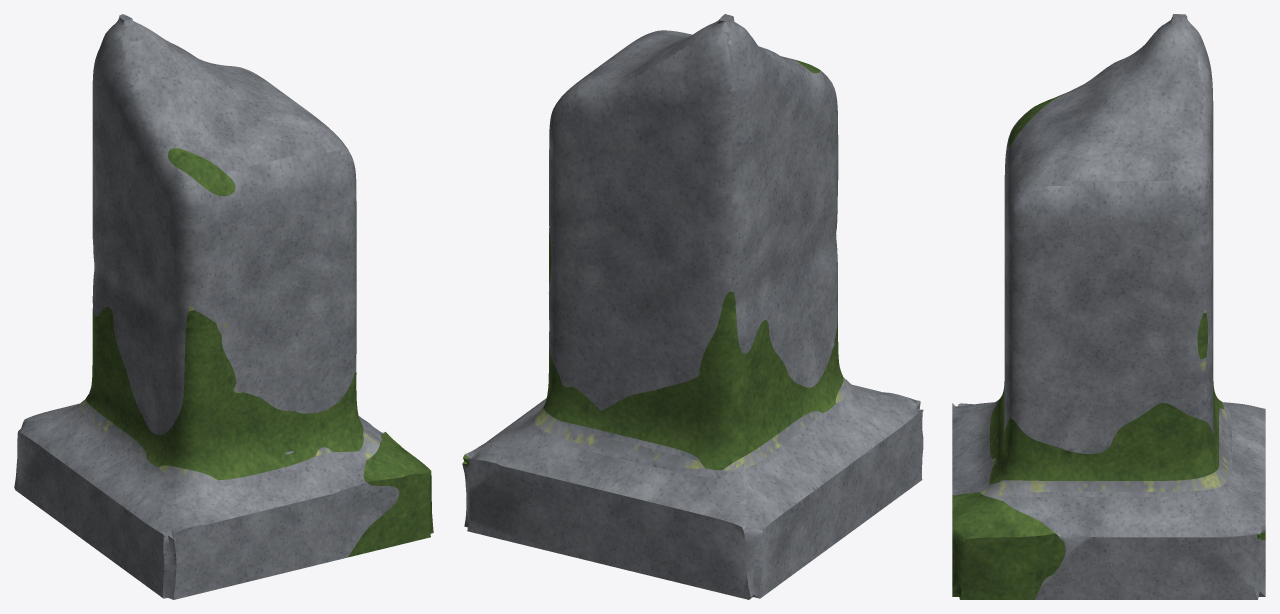
Rendered from ruin_pillar_broken.glb.
The picture shows the model from 3 angles, left to right: view 1: azimuth 30°, elevation 25°; view 2: azimuth 150°, elevation 25°; view 3: azimuth 270°, elevation 25°; orthographic projection. The views are drawn at different scales.
Visible parts, largest first — view 1: wilds_ruins_ruin_pillar_broken; view 2: wilds_ruins_ruin_pillar_broken; view 3: wilds_ruins_ruin_pillar_broken.
Boxes of the visible parts, x1,y1,x2,y2 form: wilds_ruins_ruin_pillar_broken: (14, 14, 433, 599); wilds_ruins_ruin_pillar_broken: (462, 14, 923, 599); wilds_ruins_ruin_pillar_broken: (952, 14, 1265, 599).
Bounding box in the file's own units: 0.875 × 1.5 × 0.875.
3 materials, 3 textured.
